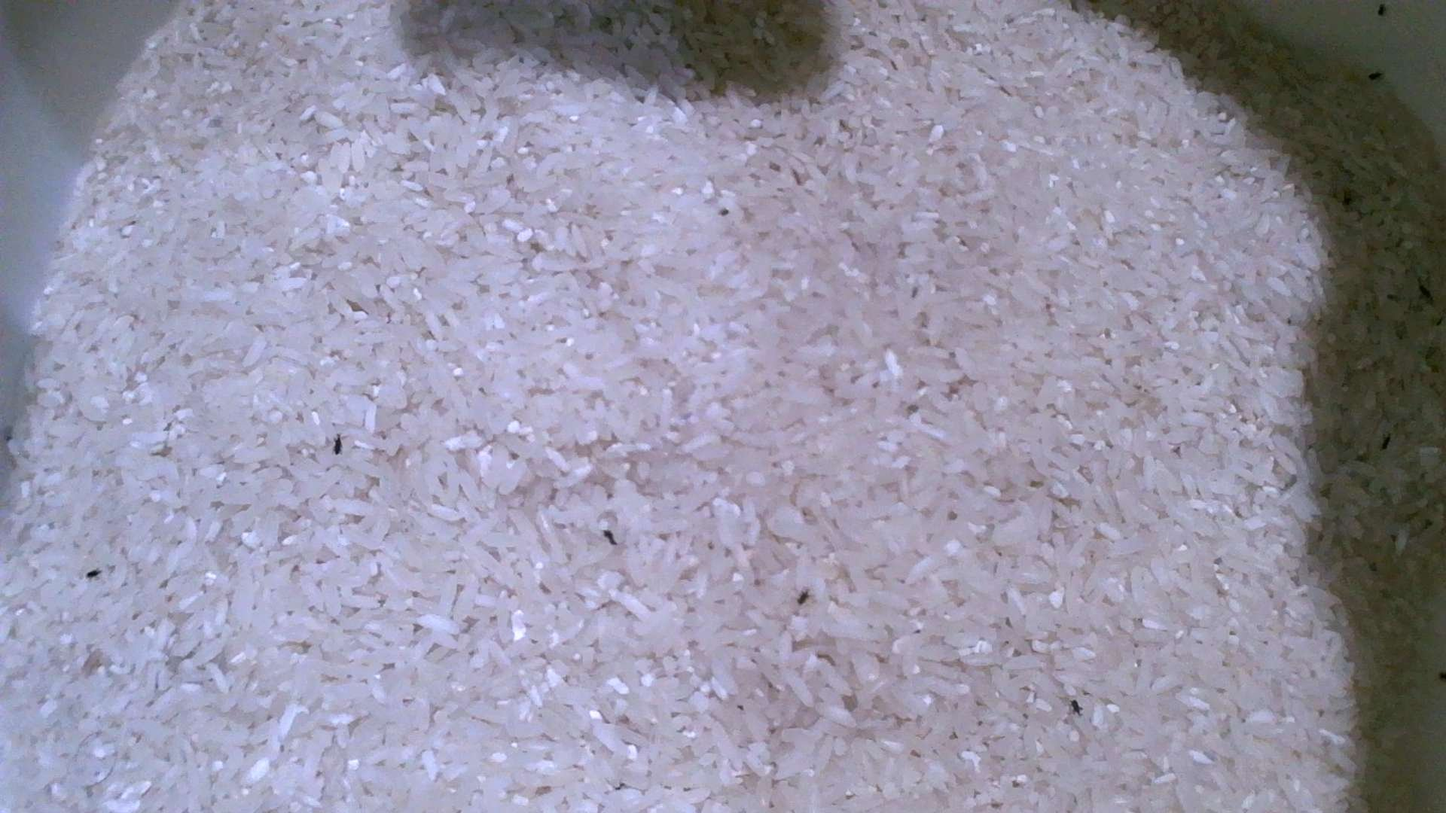Sitophilus-Oryzae: (1380, 433, 1393, 450), (797, 589, 810, 605), (333, 434, 341, 453), (1071, 699, 1081, 714), (1368, 70, 1383, 80), (85, 568, 101, 577), (1376, 3, 1387, 16)
